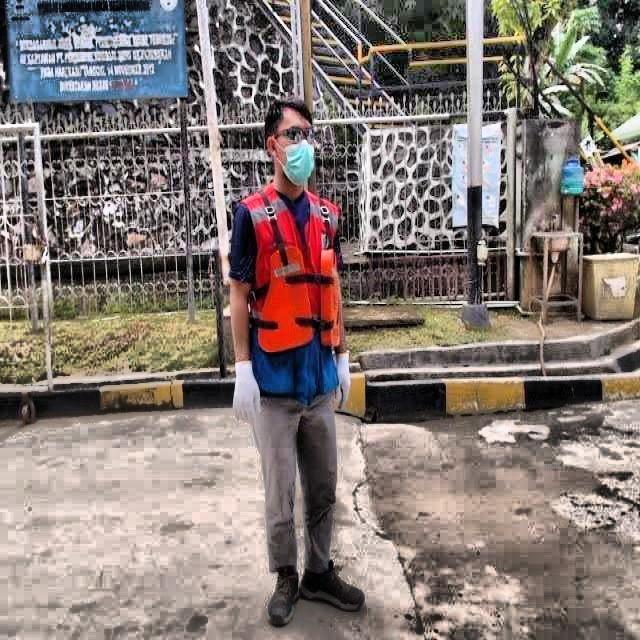safety_jacket: (238, 187, 340, 397)
